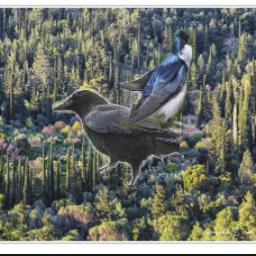Crow: (52, 90, 179, 186)
Swallow: (120, 29, 196, 130)
